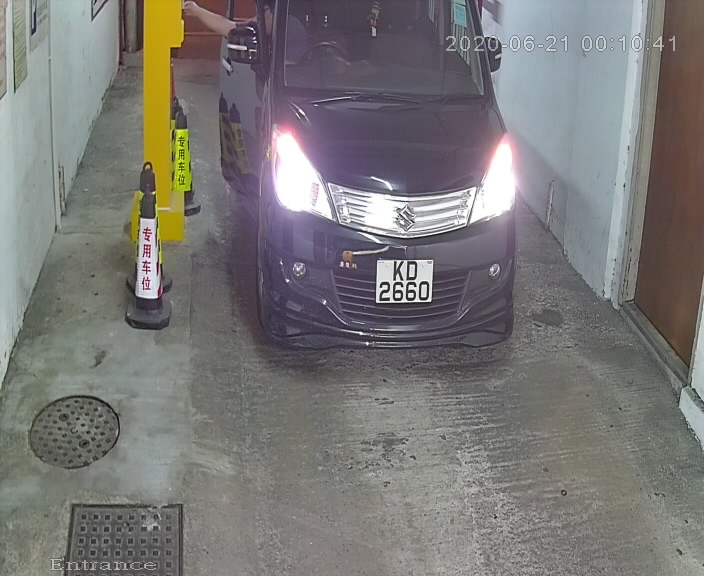privatecar: (213, 2, 549, 391)
